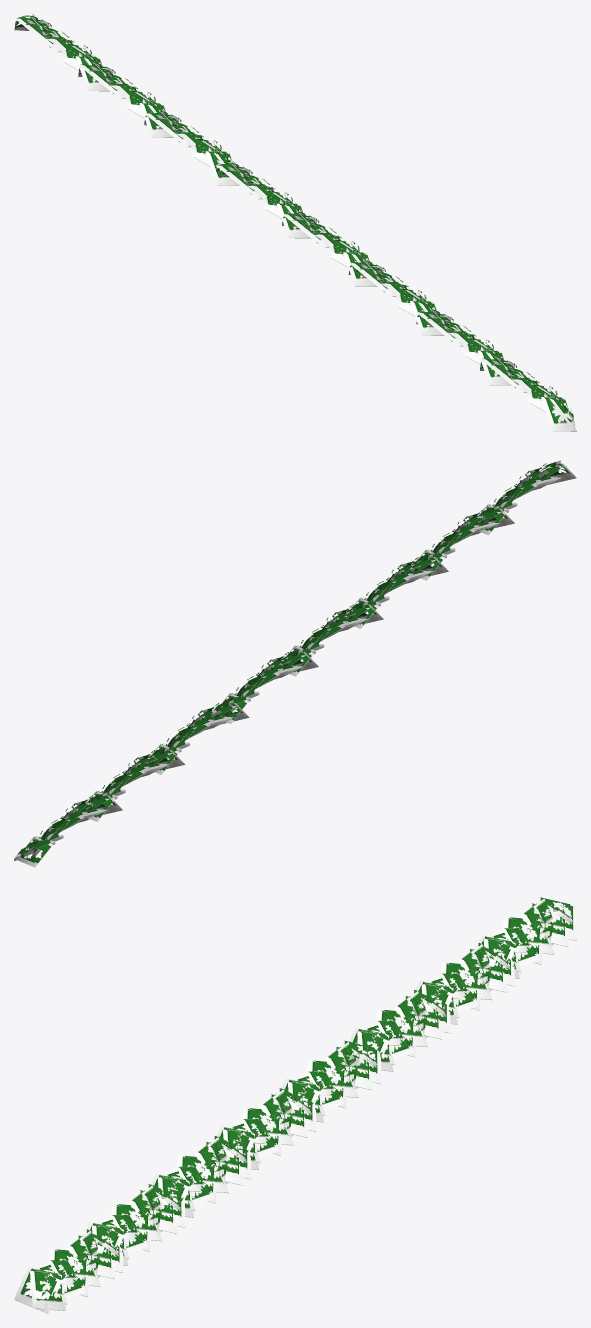
Rendered from bushBig.fbx.
3 views of the same model, one above another, from view 1: azimuth 30°, elevation 25°; view 2: azimuth 150°, elevation 25°; view 3: azimuth 330°, elevation 25° (orthographic). The views are drawn at different scales.
Visible parts, largest first — view 1: street_zhiwu04_5, street_zhiwu04, street_zhiwu04_7, street_zhiwu04_1, street_zhiwu04_3, street_zhiwu04_2, street_zhiwu04_6, street_zhiwu04_4; view 2: street_zhiwu04_7, street_zhiwu04_1, street_zhiwu04_5, street_zhiwu04_3, street_zhiwu04_2, street_zhiwu04, street_zhiwu04_4, street_zhiwu04_6; view 3: street_zhiwu04_5, street_zhiwu04, street_zhiwu04_1, street_zhiwu04_3, street_zhiwu04_2, street_zhiwu04_7, street_zhiwu04_4, street_zhiwu04_6.
Boxes of the visible parts, x1,y1,x2,y2 form: street_zhiwu04_5: (480, 355, 576, 431); street_zhiwu04: (144, 109, 239, 185); street_zhiwu04_7: (14, 14, 109, 91); street_zhiwu04_1: (216, 161, 310, 238); street_zhiwu04_3: (348, 259, 444, 335); street_zhiwu04_2: (282, 210, 377, 286); street_zhiwu04_6: (78, 61, 173, 137); street_zhiwu04_4: (416, 308, 511, 385); street_zhiwu04_7: (14, 792, 122, 867); street_zhiwu04_1: (212, 649, 318, 724); street_zhiwu04_5: (468, 460, 576, 535); street_zhiwu04_3: (344, 554, 448, 628); street_zhiwu04_2: (279, 601, 383, 676); street_zhiwu04: (146, 700, 249, 774); street_zhiwu04_4: (410, 506, 514, 580); street_zhiwu04_6: (76, 747, 184, 821); street_zhiwu04_5: (14, 1228, 123, 1313); street_zhiwu04: (346, 988, 450, 1071); street_zhiwu04_1: (281, 1039, 381, 1122); street_zhiwu04_3: (150, 1134, 250, 1217); street_zhiwu04_2: (216, 1087, 316, 1169); street_zhiwu04_7: (478, 896, 576, 978); street_zhiwu04_4: (87, 1183, 185, 1265); street_zhiwu04_6: (415, 941, 514, 1024).
Size of the model in its own units: 3.32 by 2.62 by 66.44.
1 material, 1 textured.
